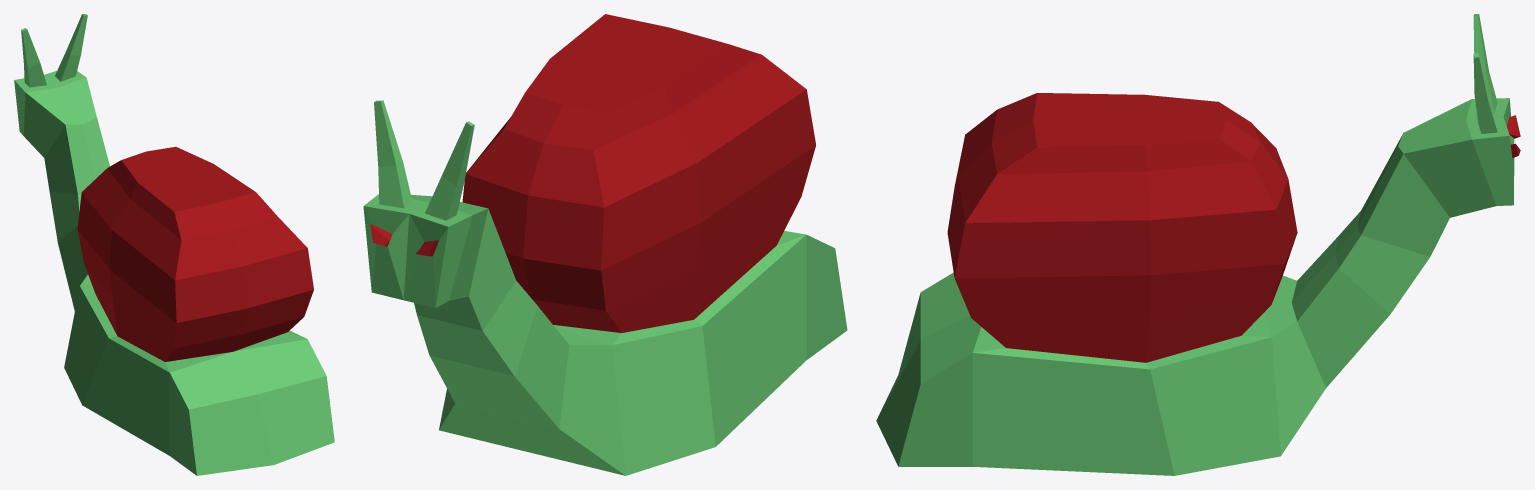
The model's file is SnailExploding.fbx.
The picture shows the model from 3 angles, left to right: view 1: azimuth 30°, elevation 25°; view 2: azimuth 150°, elevation 25°; view 3: azimuth 270°, elevation 25°; orthographic projection. The views are drawn at different scales.
Parts seen in each view (by area): view 1: Snail; view 2: Snail; view 3: Snail.
Boxes of the visible parts, box(x1,y1,x2,y2) form: Snail: box(14, 14, 334, 475); Snail: box(363, 14, 847, 475); Snail: box(876, 14, 1520, 475).
Size of the model in its own units: 100 by 164 by 248.
